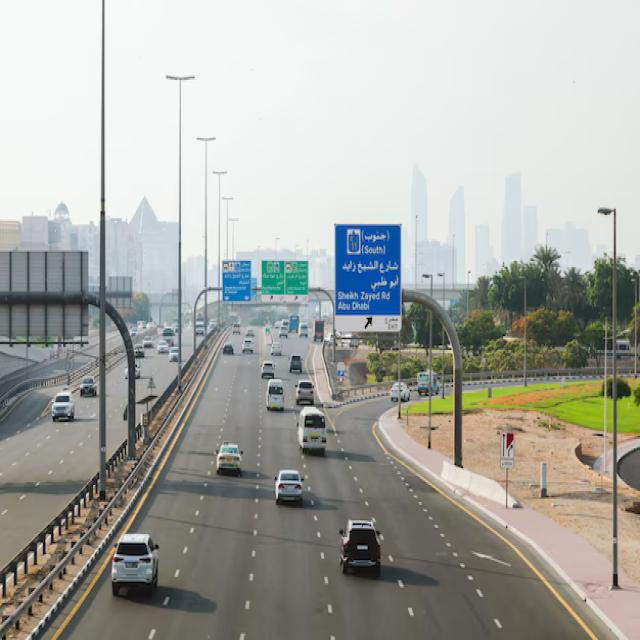Billboard_overhead: (335, 216, 401, 344), (259, 254, 311, 297), (217, 255, 255, 309)
Roadcorner: (47, 390, 205, 638), (407, 459, 619, 638)
Roadlane: (373, 442, 520, 637), (138, 373, 240, 638), (330, 429, 429, 626), (296, 450, 347, 637), (231, 399, 270, 638), (2, 416, 67, 462)
